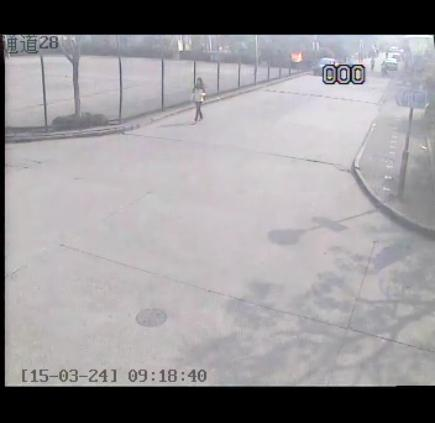person: (184, 68, 212, 127)
